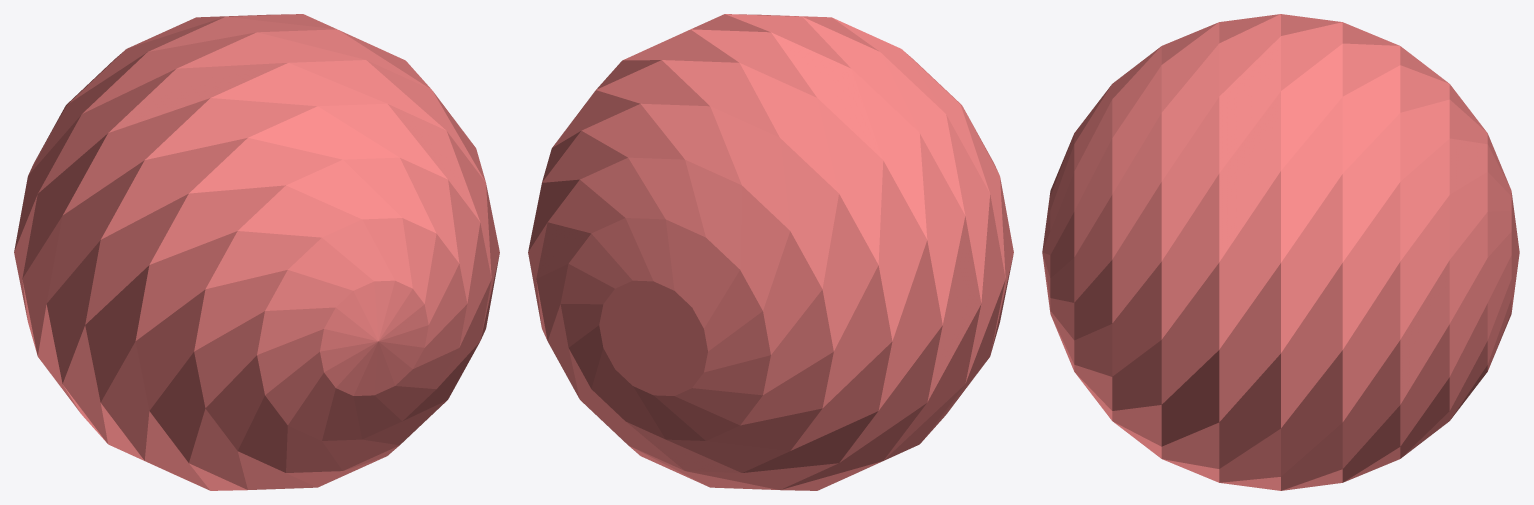
The model's file is destination.gltf.
3 renders of one model, left to right at view 1: azimuth 30°, elevation 25°; view 2: azimuth 150°, elevation 25°; view 3: azimuth 270°, elevation 25°, orthographic.
Visible parts, largest first — view 1: destination.gltf; view 2: destination.gltf; view 3: destination.gltf.
Boxes of the visible parts, bbox=[...] form: destination.gltf: bbox=[14, 14, 499, 490]; destination.gltf: bbox=[528, 14, 1013, 490]; destination.gltf: bbox=[1042, 14, 1519, 490].
Bounding box in the file's own units: 0.24 × 0.24 × 0.24.
